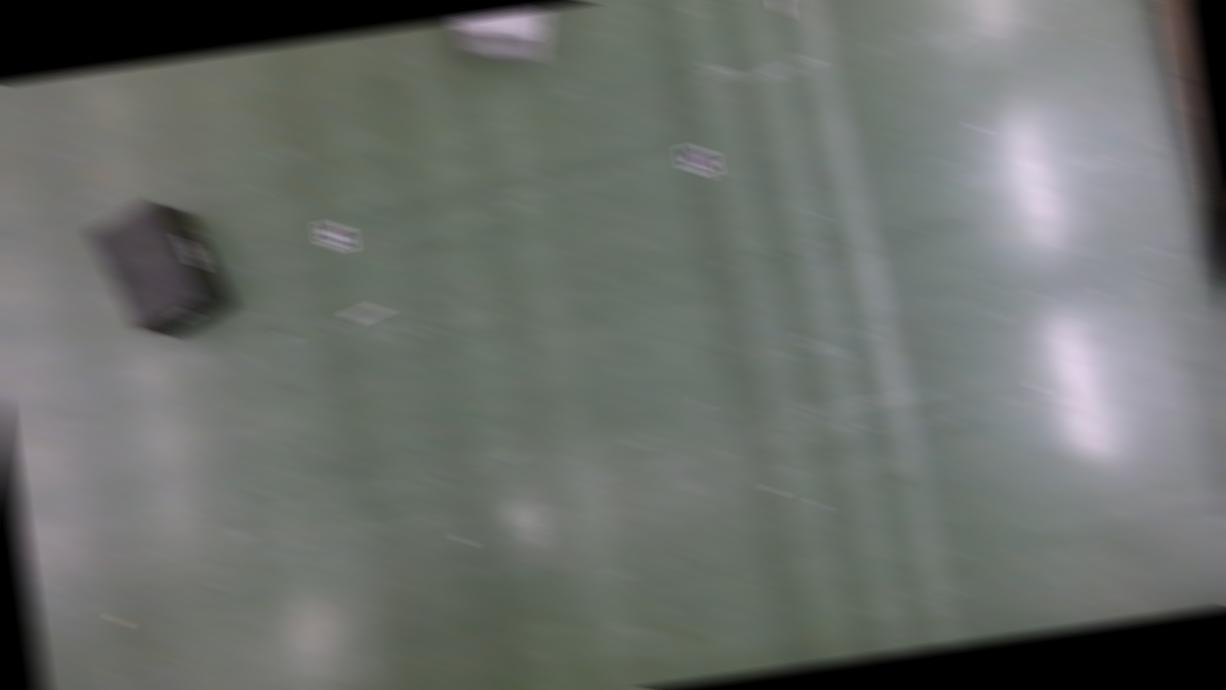probes: (344, 304, 388, 326)
rako: (84, 191, 239, 348)
